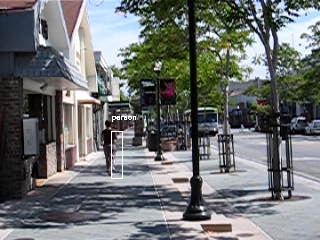person: (101, 120, 120, 177), (100, 120, 119, 177), (102, 120, 121, 177), (101, 119, 120, 176), (101, 121, 120, 178)
target_negative: (79, 88, 281, 191), (4, 172, 213, 200), (69, 222, 215, 232), (230, 105, 276, 112), (317, 23, 319, 100), (33, 52, 34, 114)
